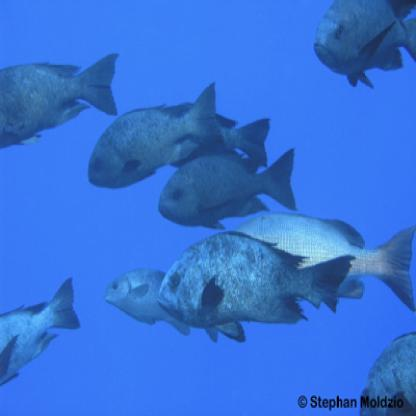Lutjanidae -Snappers-: (152, 230, 359, 337), (84, 72, 233, 195), (154, 140, 305, 231)
